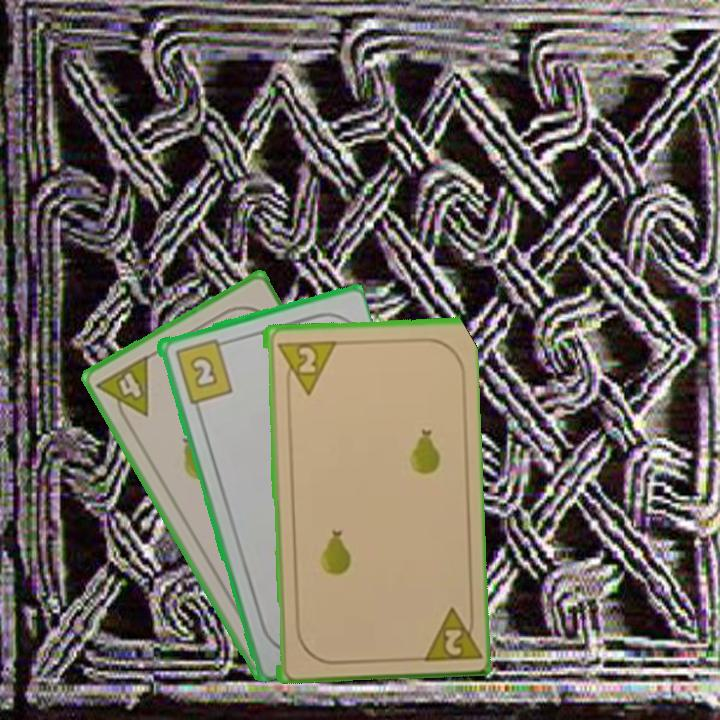2b: (171, 335, 235, 406)
2p: (415, 601, 481, 664), (273, 336, 336, 397)
4p: (92, 351, 152, 429)
